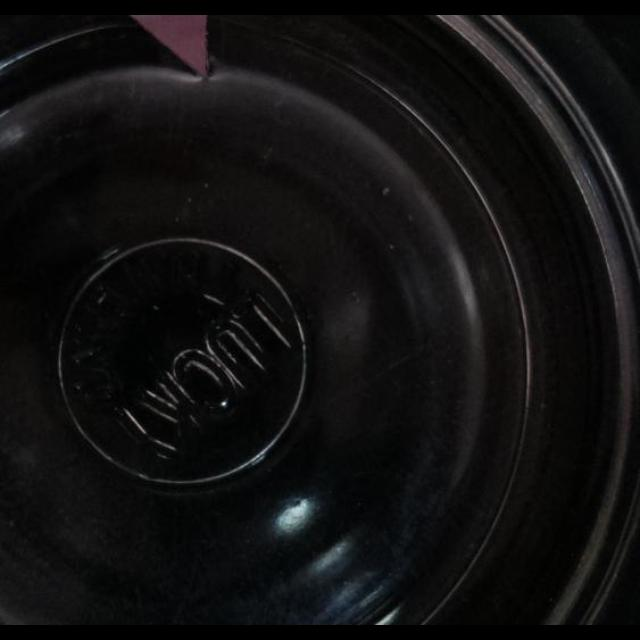Fragment: (123, 15, 210, 79)
